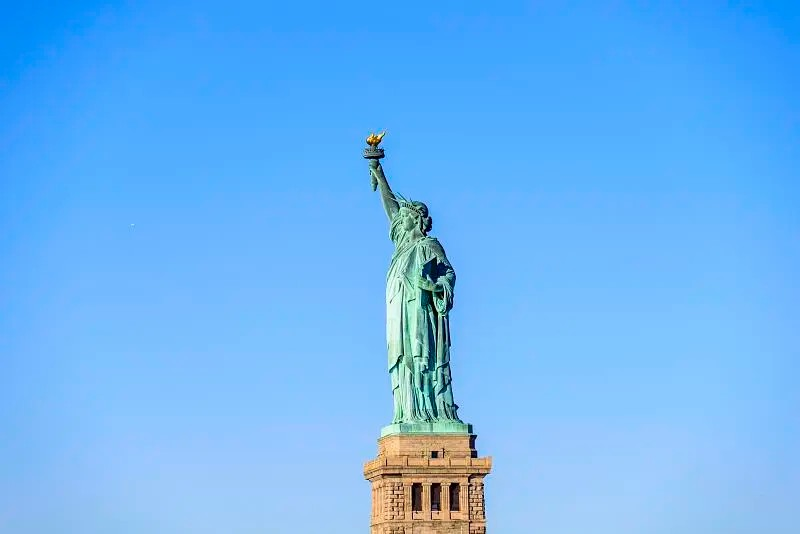SL: (361, 130, 493, 534)
